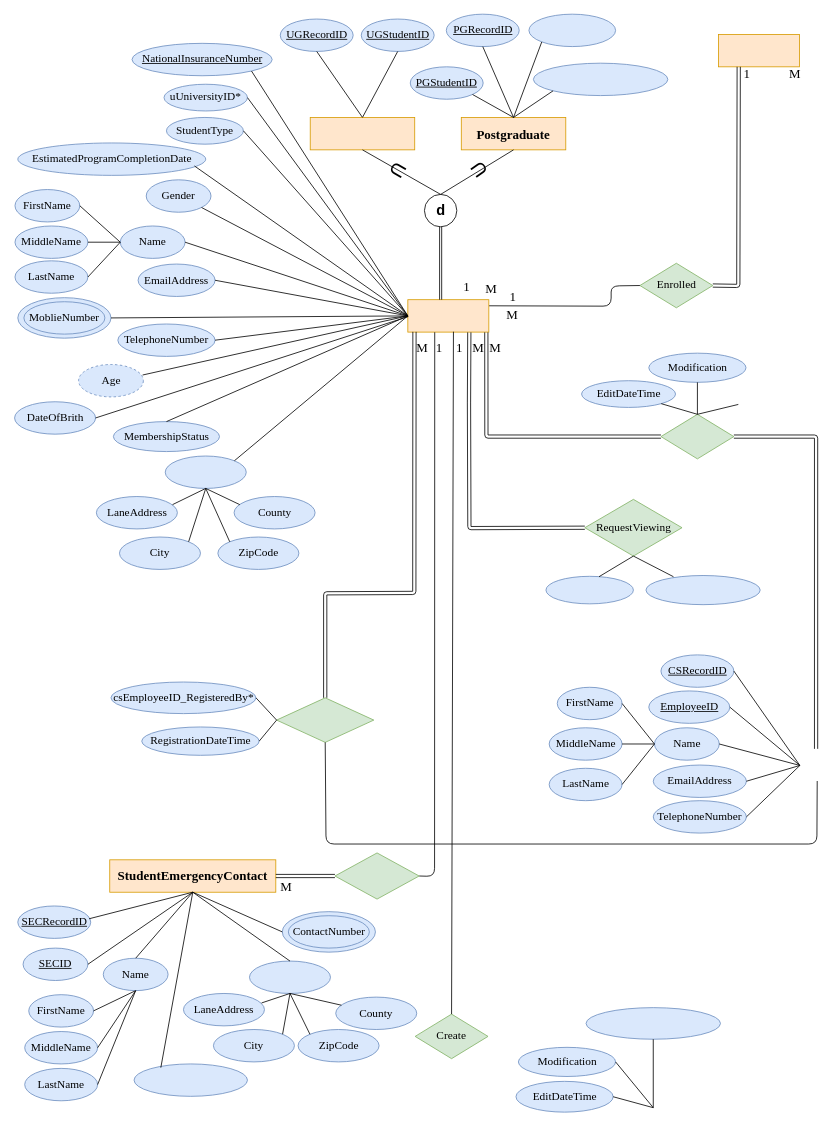
Image size: 832x1127. Some labels were removed from this diagram. The shapes that lost their labels are listed below. From the top down, each one's centre as x and y in pixels, then its label:
At (572,30): "EmployerName".
At (758,50): "University".
At (600,79): "EmployerContactNumber".
At (362,133): "Undergraduate".
At (448,315): "Student".
At (697,436): "Manage".
At (205,471): "CurrentAddress".
At (589,590): "sRequestedBy*".
At (702,590): "RequestedDateTime".
At (325,719): "Register".
At (376,875): "Has".
At (289,976): "Address".
At (652,1023): "csEmployeeID_EditedBy*".
At (190,1079): "RelationshipToStudent".
